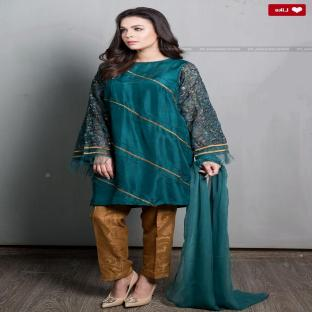Human: (70, 7, 268, 311)
